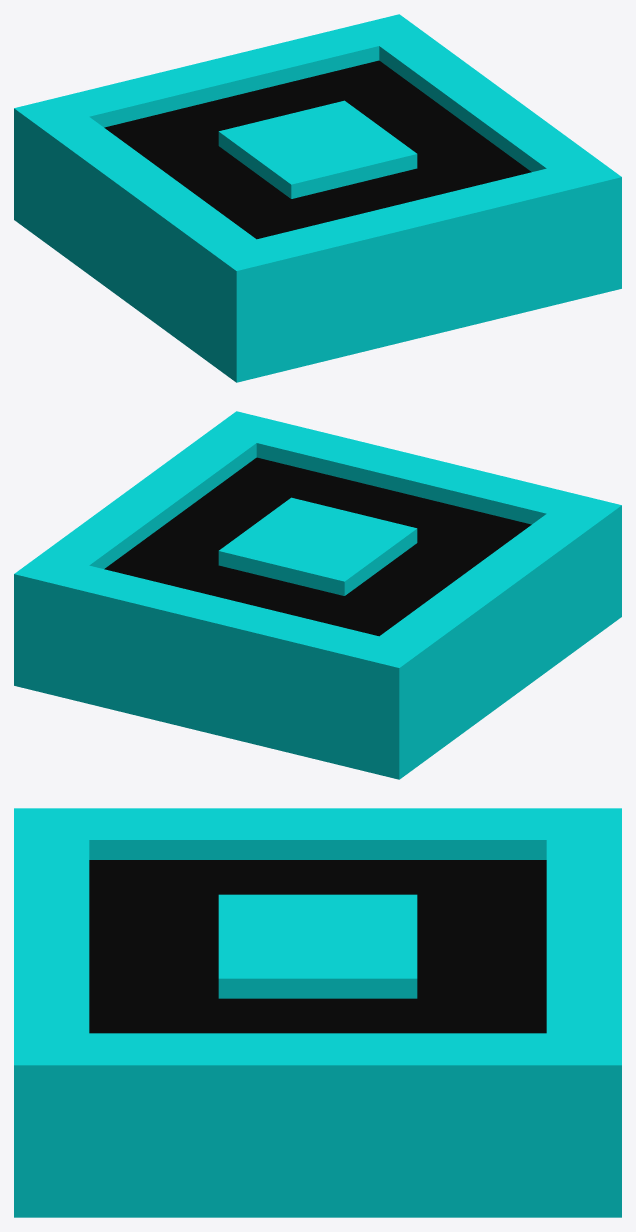
The model's file is servercube.fbx.
The picture shows the model from 3 angles, top to bottom: view 1: azimuth 30°, elevation 25°; view 2: azimuth 150°, elevation 25°; view 3: azimuth 270°, elevation 25°; orthographic projection. The views are drawn at different scales.
Visible parts, largest first — view 1: Cube.001; view 2: Cube.001; view 3: Cube.001.
Boxes of the visible parts, <box> form: Cube.001: <box>14,14,621,382</box>; Cube.001: <box>14,411,621,779</box>; Cube.001: <box>14,808,621,1217</box>.
Size of the model in its own units: 266 by 73.6 by 266.
